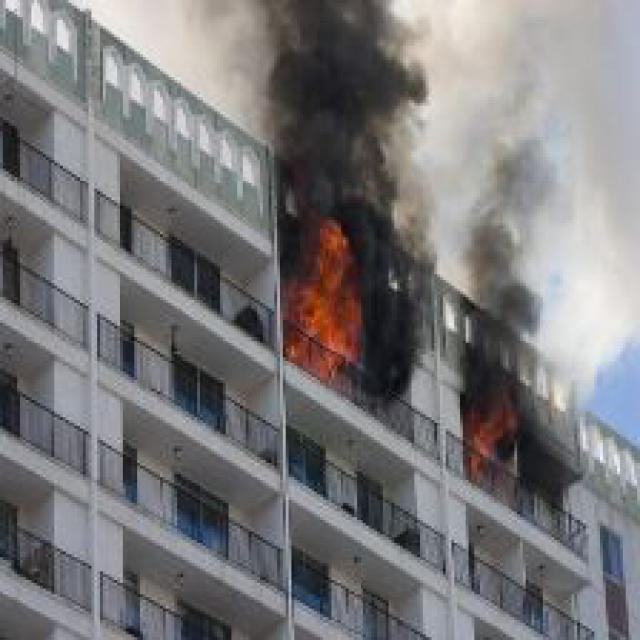fire: (283, 212, 377, 377), (448, 394, 526, 483)
